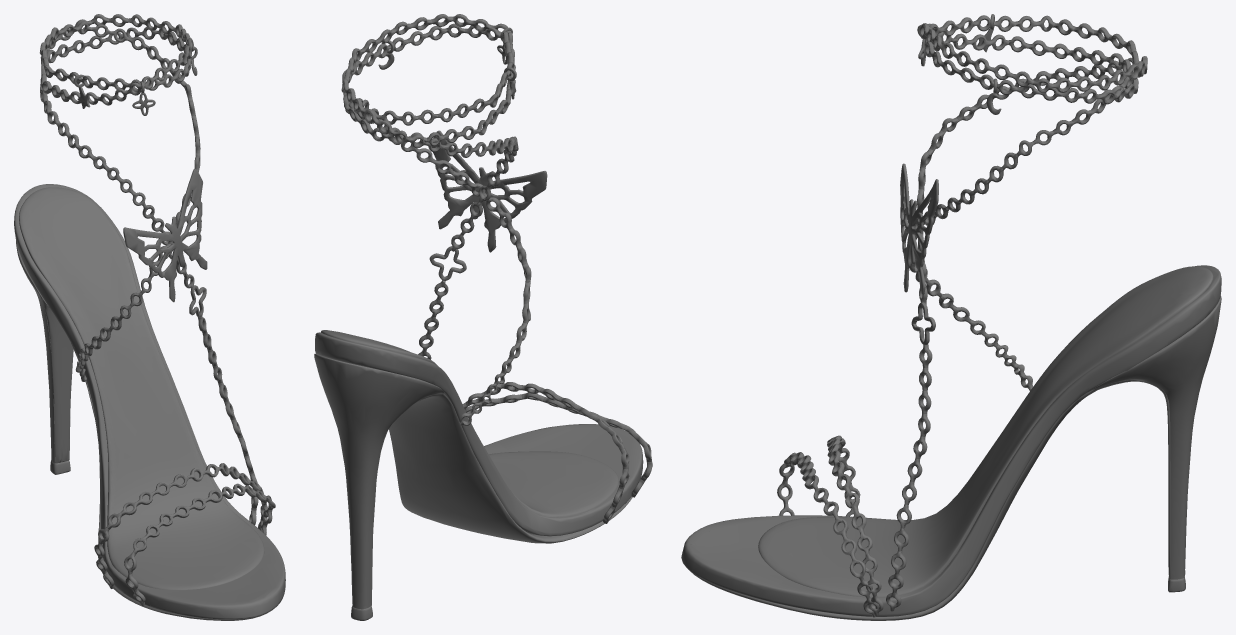
3 views of the same model, side by side, from view 1: azimuth 30°, elevation 25°; view 2: azimuth 150°, elevation 25°; view 3: azimuth 270°, elevation 25° (orthographic). The views are drawn at different scales.
Visible parts, largest first — view 1: Chain_Heels; view 2: Chain_Heels; view 3: Chain_Heels.
Boxes of the visible parts, x1,y1,x2,y2 form: Chain_Heels: (14, 14, 285, 620); Chain_Heels: (314, 14, 652, 620); Chain_Heels: (681, 14, 1221, 620).
Size of the model in its own units: 0.083 by 0.2102 by 0.184.
Materials: 2 (2 with a texture image).
